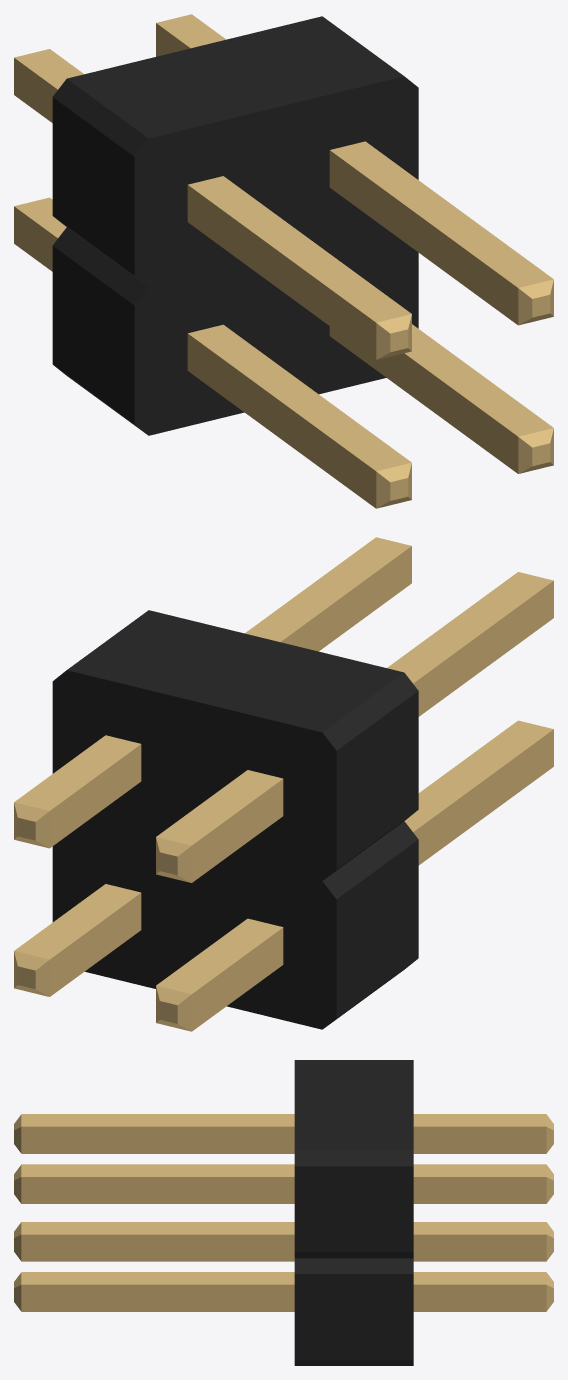
File: header-2x02.glb
3 renders of one model, top to bottom at view 1: azimuth 30°, elevation 25°; view 2: azimuth 150°, elevation 25°; view 3: azimuth 270°, elevation 25°, orthographic. The views are drawn at different scales.
Parts seen in each view (by area): view 1: IC-BODY-EPOXY-04, PIN-02; view 2: IC-BODY-EPOXY-04, PIN-02; view 3: PIN-02, IC-BODY-EPOXY-04.
Boxes of the visible parts, <box> form: IC-BODY-EPOXY-04: <box>52,16,418,435</box>; PIN-02: <box>14,14,553,508</box>; IC-BODY-EPOXY-04: <box>52,610,418,1029</box>; PIN-02: <box>14,537,553,1031</box>; PIN-02: <box>14,1114,553,1311</box>; IC-BODY-EPOXY-04: <box>294,1060,413,1365</box>.
Size of the model in its own units: 5.08 by 5.08 by 11.54.
